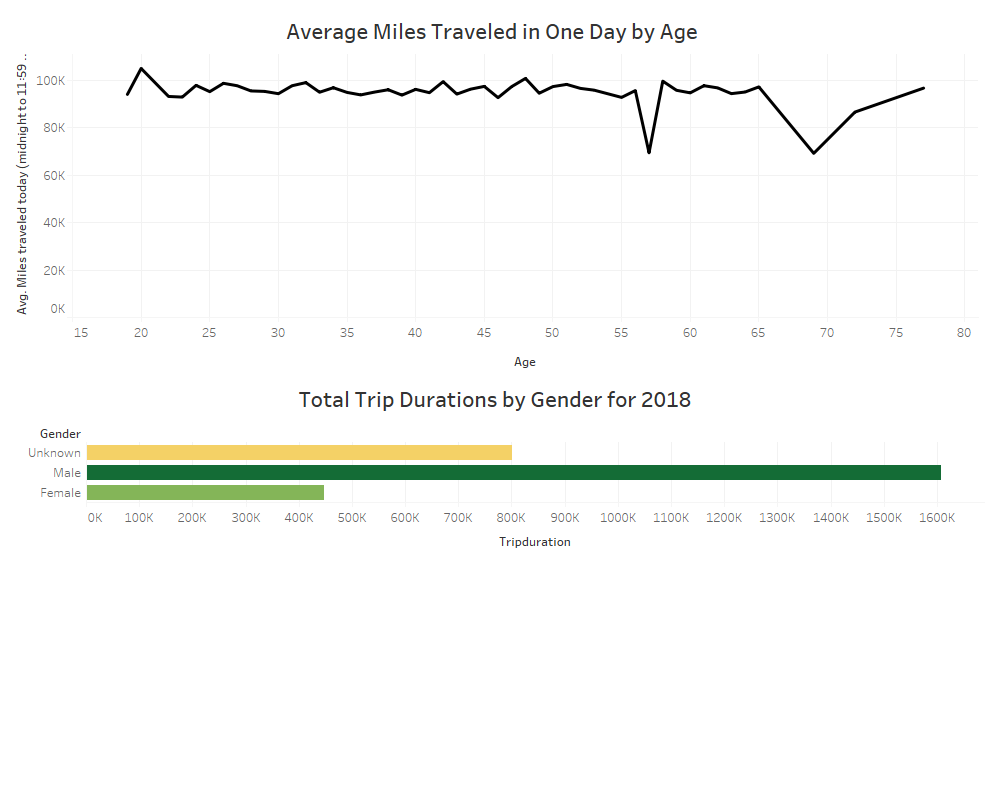

The dashboard page shown, as its layout file describes it:
{"tool":"tableau","page":{"name":"Age and Gender","canvas":[1000,800],"ordinal":0},"visuals":[{"type":"worksheet","title":"Age","mark":"Automatic","rows":["59 pm)"],"cols":["Calculation_1125055510558400512"],"box":[6,10,972,360]},{"type":"worksheet","title":"Gender/Duration","mark":"Bar","rows":["gender"],"cols":["tripduration"],"box":[6,378,978,213]}]}

Visuals, with their boxes in screenshot pixels (x1, y1, x2, y2), scaled from the page's 1000x800 canvas onto the 1000x800 screenshot:
"Age" worksheet: [left=6, top=10, right=978, bottom=370]
"Gender/Duration" worksheet (Bar marks): [left=6, top=378, right=984, bottom=591]
